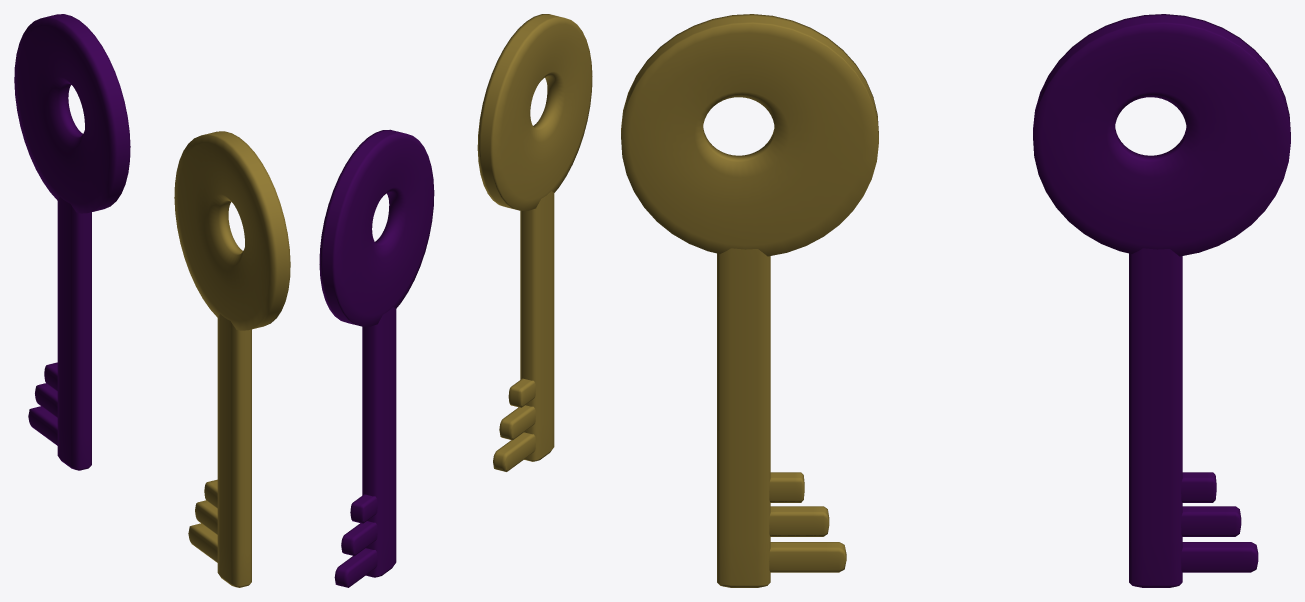
The model's file is Key Assets .fbx.
3 views of the same model, side by side, from view 1: azimuth 30°, elevation 25°; view 2: azimuth 150°, elevation 25°; view 3: azimuth 270°, elevation 25° (orthographic). The views are drawn at different scales.
Parts seen in each view (by area): view 1: pCylinder8 (×2), pCube47 (×2), pCube52 (×2), pCube51 (×2); view 2: pCylinder8 (×2), pCube47 (×2), pCube52 (×2), pCube51 (×2), pCube50 (×2); view 3: pCylinder8 (×2), pCube47 (×2), pCube52 (×2), pCube51 (×2), pCube50 (×2).
Boxes of the visible parts, x1,y1,x2,y2 form: pCylinder8 (×2): (14, 14, 290, 330); pCube47 (×2): (57, 197, 251, 587); pCube52 (×2): (28, 406, 217, 562); pCube51 (×2): (35, 383, 217, 534); pCylinder8 (×2): (319, 14, 592, 326); pCube47 (×2): (362, 191, 554, 577); pCube52 (×2): (334, 432, 535, 587); pCube51 (×2): (341, 405, 535, 555); pCube50 (×2): (350, 378, 535, 523); pCylinder8 (×2): (621, 14, 1290, 256); pCube47 (×2): (717, 248, 1182, 587); pCube52 (×2): (769, 542, 1258, 572); pCube51 (×2): (769, 506, 1241, 536); pCube50 (×2): (769, 472, 1216, 502).
Size of the model in its own units: 0.2356 by 4.78 by 5.13.
